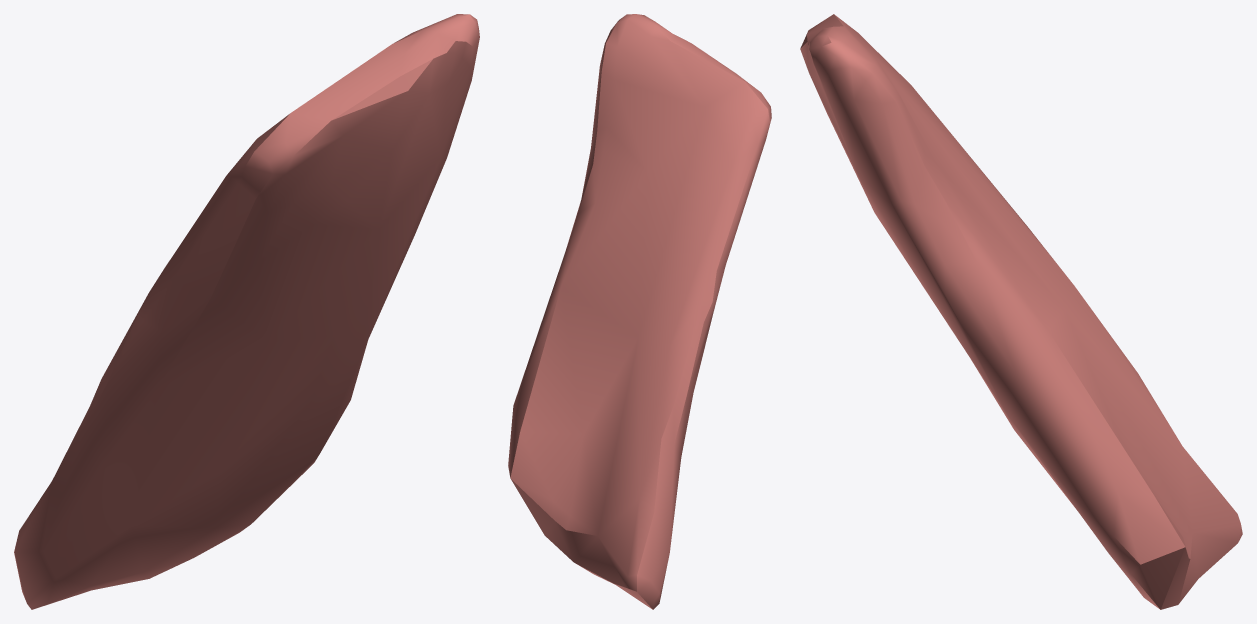
File: fma81547_mm1324m.glb
The picture shows the model from 3 angles, left to right: view 1: azimuth 30°, elevation 25°; view 2: azimuth 150°, elevation 25°; view 3: azimuth 270°, elevation 25°; orthographic projection. The views are drawn at different scales.
Visible parts, largest first — view 1: FMA81547_MM1324M; view 2: FMA81547_MM1324M; view 3: FMA81547_MM1324M.
Part boxes in pixels (x1,y1,x2,y2): FMA81547_MM1324M: (14, 14, 479, 609); FMA81547_MM1324M: (508, 14, 771, 609); FMA81547_MM1324M: (800, 14, 1242, 609).
Bounding box in the file's own units: 0.00567 × 0.0138 × 0.00868.
